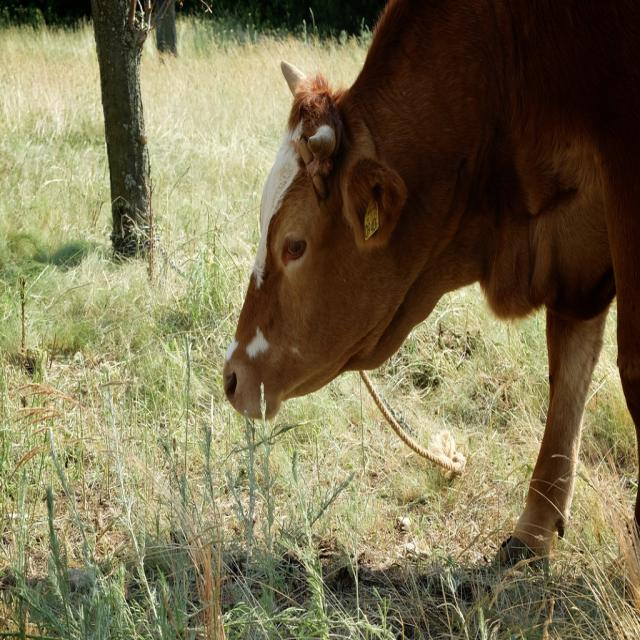Cattle: (222, 0, 640, 576)
